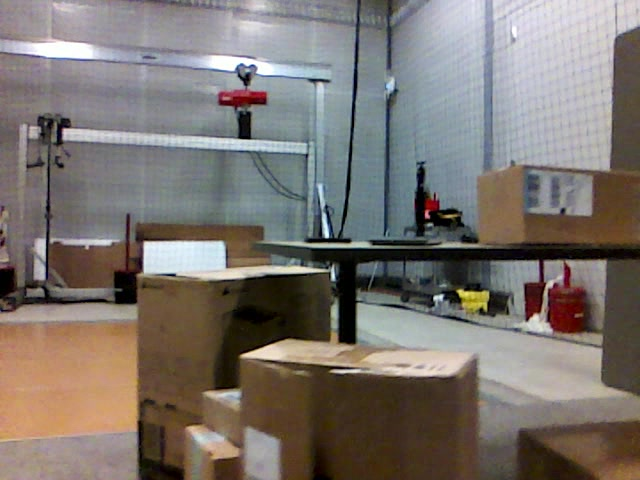box: (138, 267, 332, 480), (242, 340, 478, 480), (477, 164, 640, 243), (519, 419, 640, 480), (188, 423, 253, 480), (204, 390, 259, 443)
